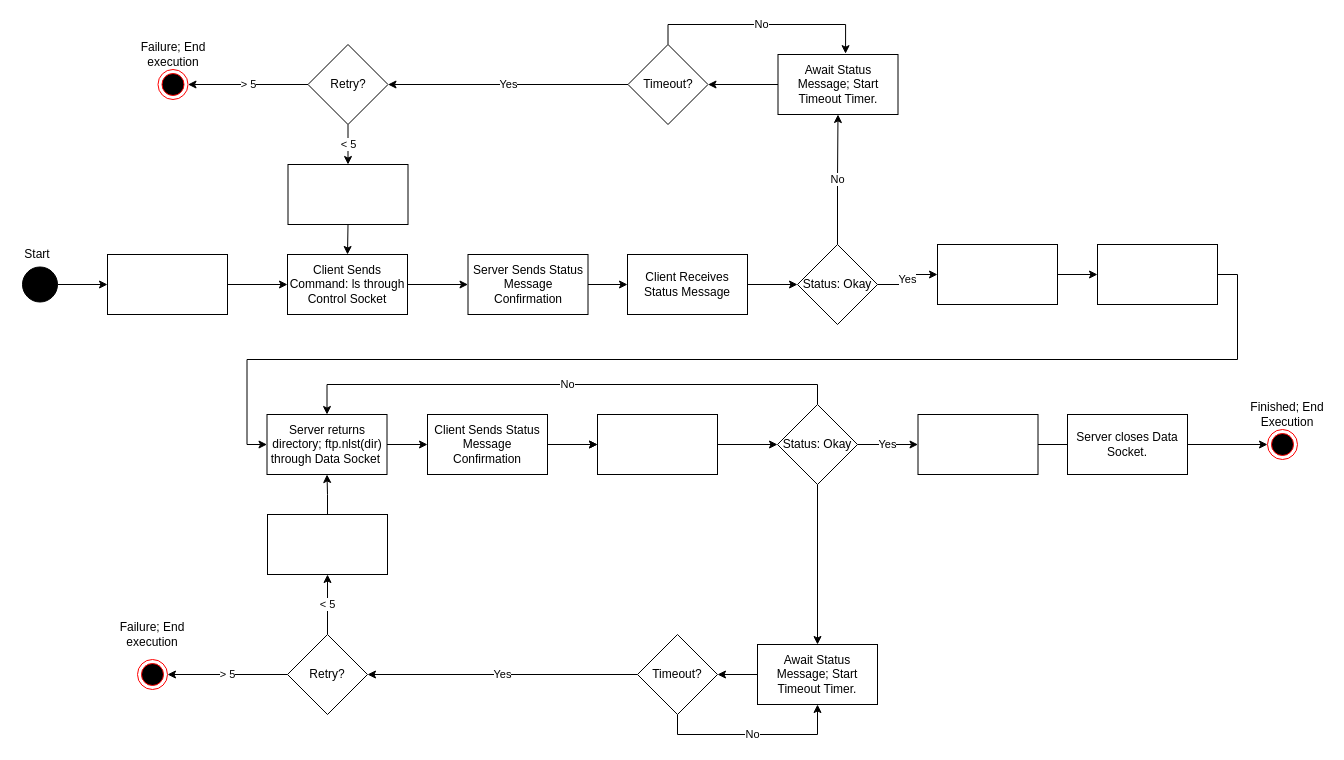
This 1344x760 diagram has some shape labels left out. Here are the shapes that lost their labels. From the top down, the box of each, then its label:
(287, 164, 408, 224): cRetry++
(106, 254, 228, 314): Client opens Control Socket connection to Server (if not already open)
(936, 244, 1058, 304): Server receives command ls on Control Socket
(1096, 244, 1218, 304): Server opens Data Socket to Client
(596, 414, 718, 474): Server Receives Status Message Confirmation
(917, 414, 1038, 474): Client prints list of files.
(266, 514, 388, 574): sRetry++
